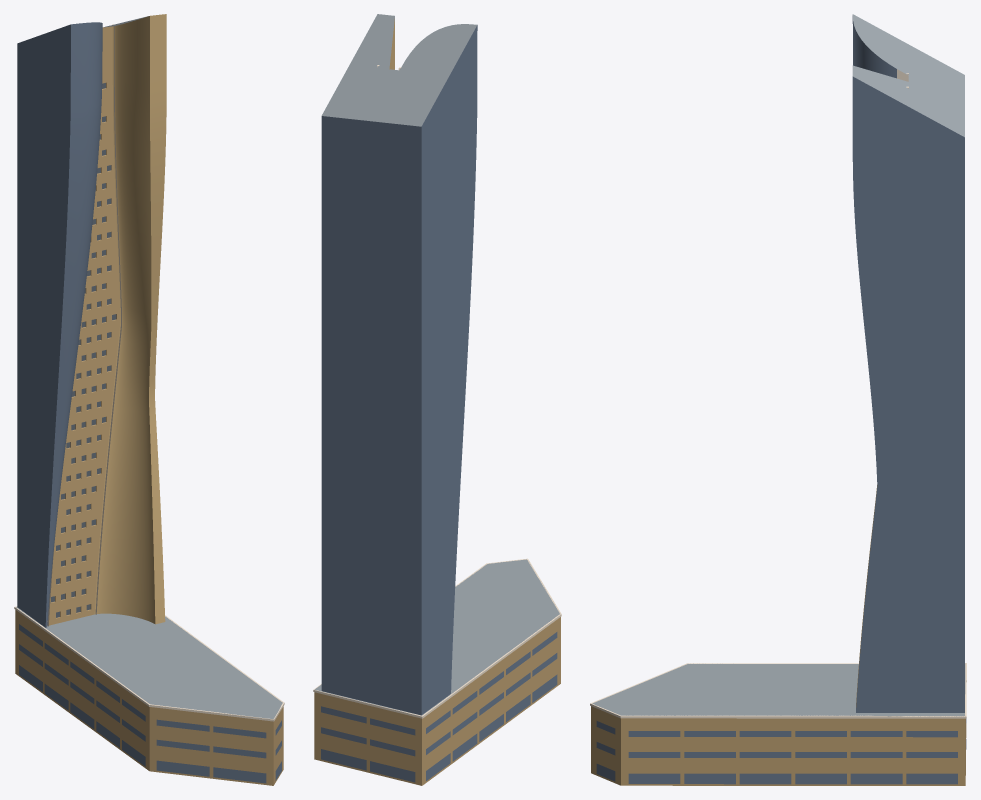
Rendered from kuwait-al-hamra-tower.glb.
3 views of the same model, side by side, from view 1: azimuth 30°, elevation 25°; view 2: azimuth 150°, elevation 25°; view 3: azimuth 270°, elevation 25° (orthographic). The views are drawn at different scales.
Parts seen in each view (by area): view 1: Al Hamra Tower; view 2: Al Hamra Tower; view 3: Al Hamra Tower.
Boxes of the visible parts, box(x1,y1,x2,y2) form: Al Hamra Tower: box(14, 14, 284, 785); Al Hamra Tower: box(313, 14, 561, 785); Al Hamra Tower: box(590, 14, 966, 785).
Size of the model in its own units: 65.67 by 413 by 196.
